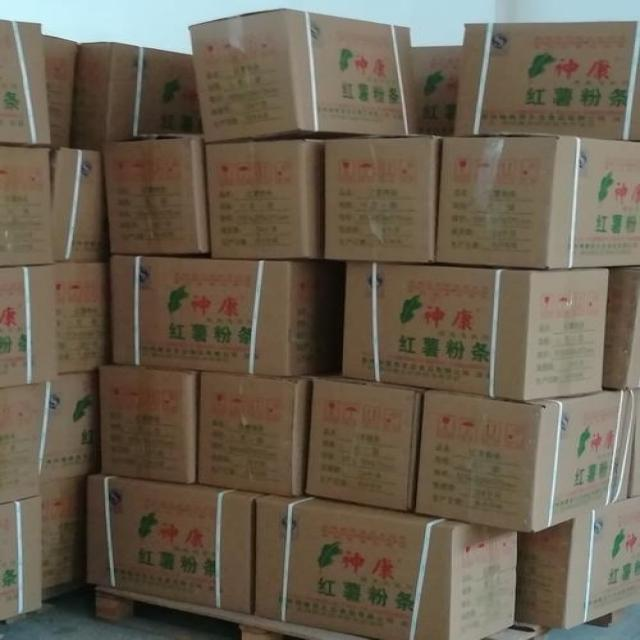box: (252, 493, 518, 640), (340, 260, 609, 401), (412, 388, 635, 533), (189, 7, 421, 142), (436, 133, 639, 270), (108, 254, 335, 376), (84, 471, 269, 613), (453, 21, 640, 141), (306, 369, 429, 512), (515, 495, 640, 630), (324, 133, 443, 263), (196, 370, 315, 496), (205, 138, 325, 259), (72, 42, 200, 151), (0, 369, 100, 504), (102, 133, 210, 254), (97, 364, 200, 483), (0, 264, 59, 388), (54, 260, 113, 374), (0, 143, 54, 266), (54, 145, 108, 261), (40, 474, 88, 590), (0, 496, 42, 621), (412, 45, 465, 136), (603, 266, 640, 391), (42, 35, 79, 147), (627, 387, 640, 499)
